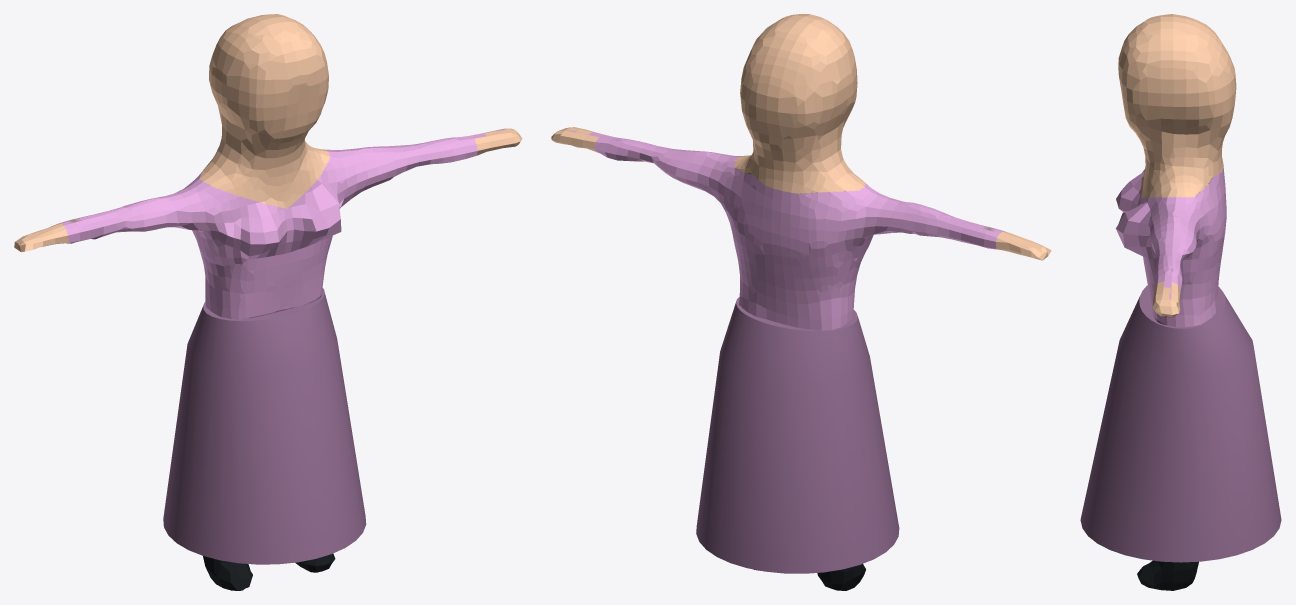
The model's file is woman_3.fbx.
3 renders of one model, left to right at view 1: azimuth 30°, elevation 25°; view 2: azimuth 150°, elevation 25°; view 3: azimuth 270°, elevation 25°, orthographic.
Parts seen in each view (by area): view 1: Woman_.003; view 2: Woman_.003; view 3: Woman_.003.
Part boxes in pixels (x1,y1,x2,y2): Woman_.003: (14,14,522,590); Woman_.003: (551,14,1051,590); Woman_.003: (1080,14,1281,590).
Size of the model in its own units: 424 by 451 by 150.
Materials: 1 (1 with a texture image).
